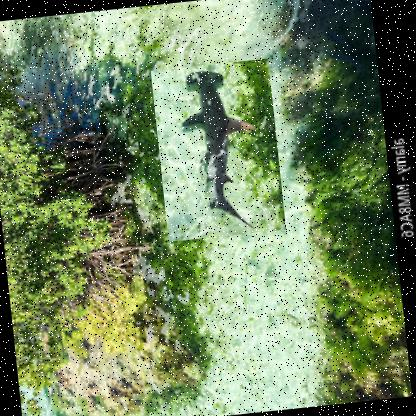hammerhead_Shark: (150, 58, 286, 242)
